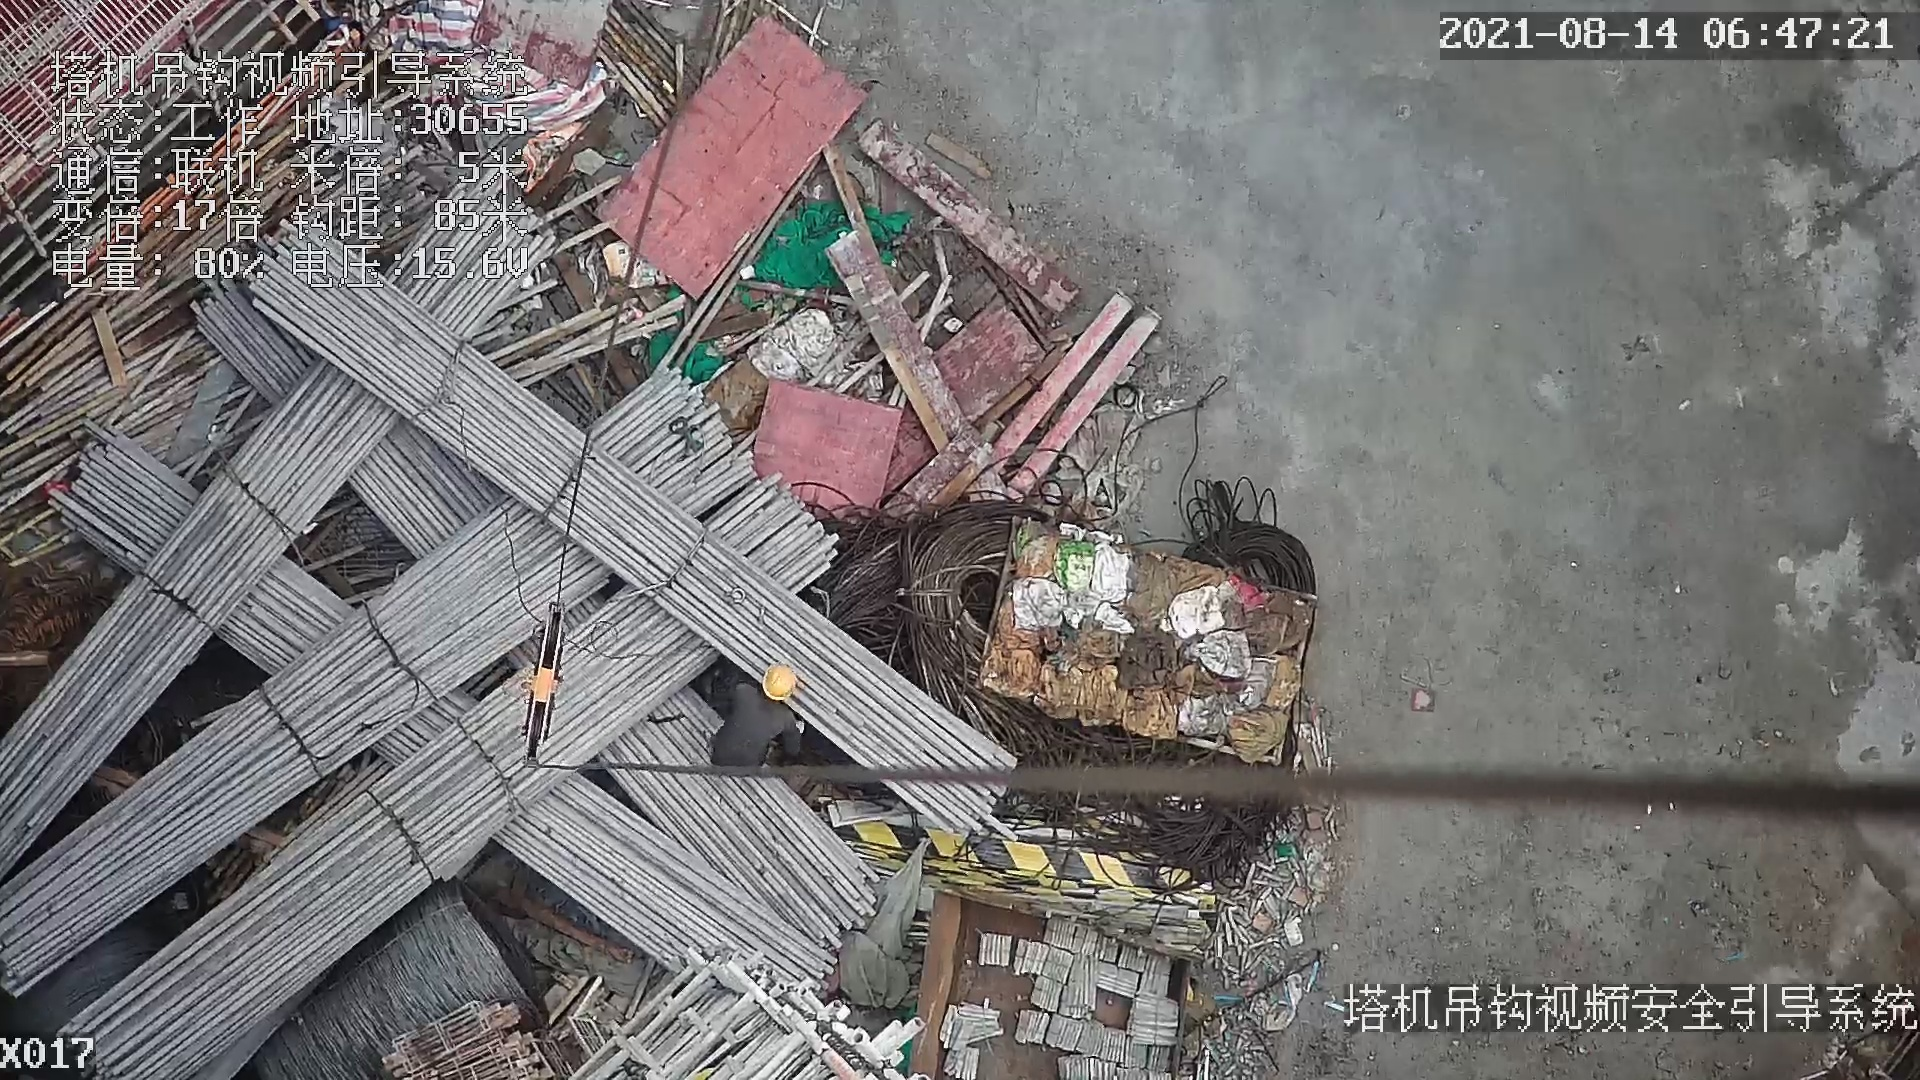board: (586, 12, 869, 306)
helmet: (760, 664, 796, 698)
hook: (506, 599, 568, 773)
person: (708, 669, 808, 774)
